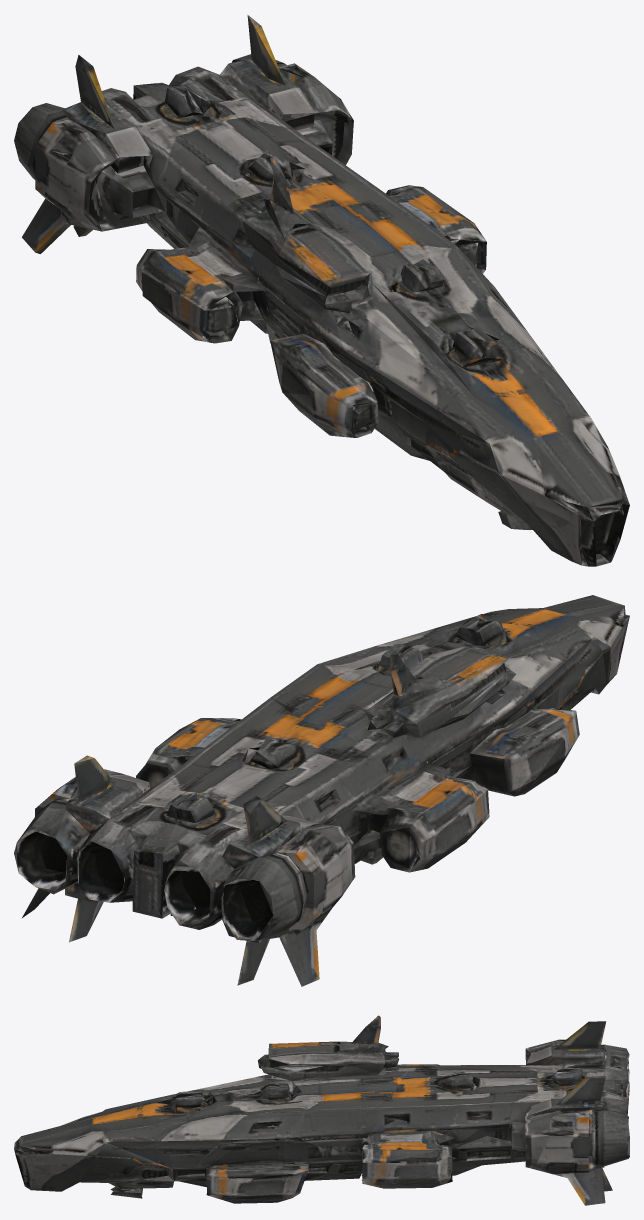
Rendered from hard-2000.glb.
3 renders of one model, top to bottom at view 1: azimuth 30°, elevation 25°; view 2: azimuth 150°, elevation 25°; view 3: azimuth 270°, elevation 25°, orthographic. The views are drawn at different scales.
Visible parts, largest first — view 1: Low; view 2: Low; view 3: Low.
Part boxes in pixels (x1,y1,x2,y2): Low: (14, 15, 629, 566); Low: (14, 595, 629, 986); Low: (14, 1015, 629, 1205).
Size of the model in its own units: 0.3591 by 0.2824 by 0.9793.
Materials: 1 (1 with a texture image).
